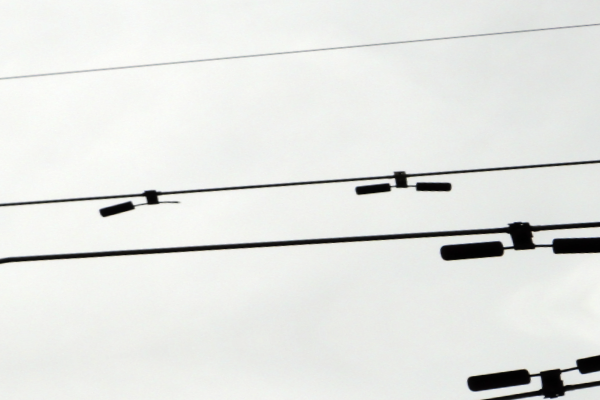damper: (437, 220, 600, 262), (353, 168, 454, 197)
damper_defect: (98, 188, 183, 218)
